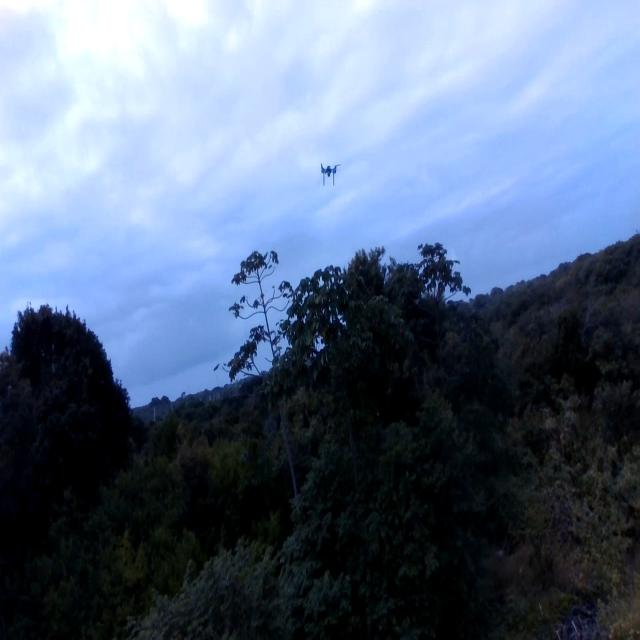-uav-: (313, 154, 345, 187)
